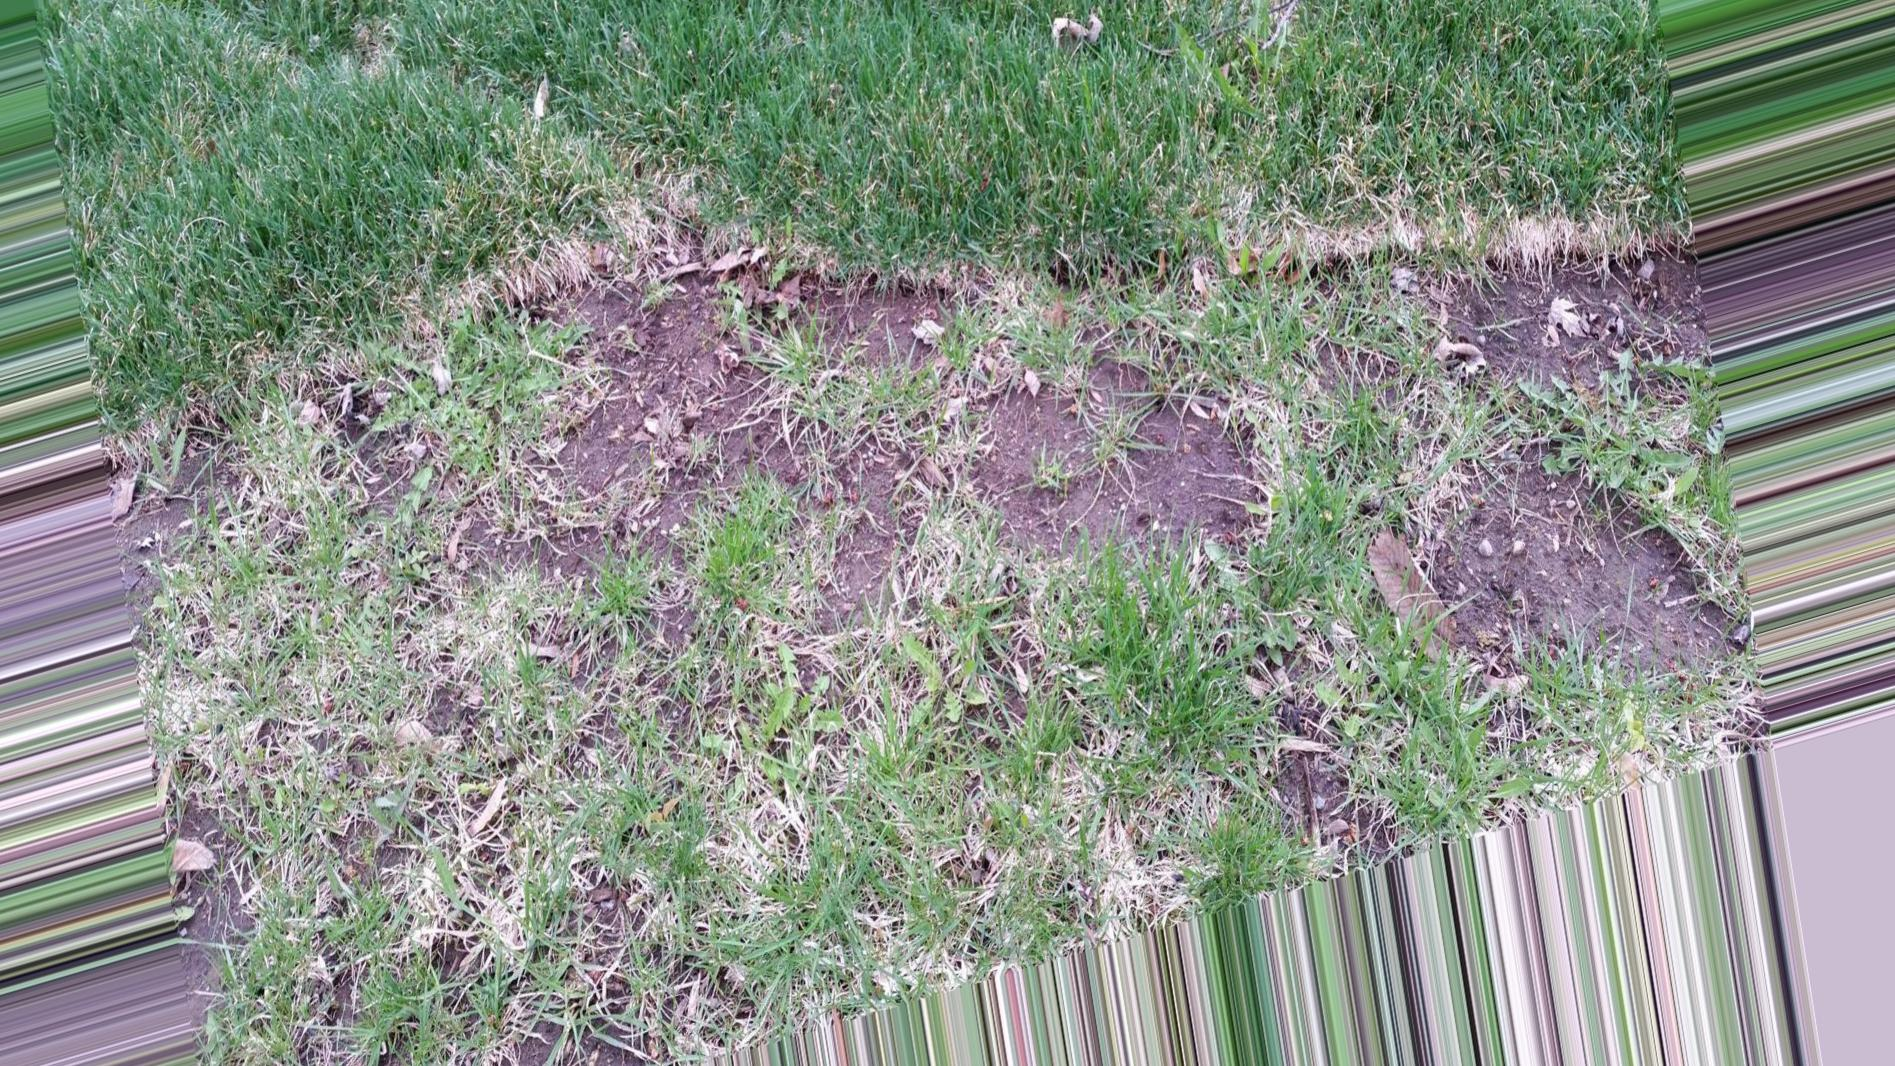patch: (281, 271, 1512, 932)
